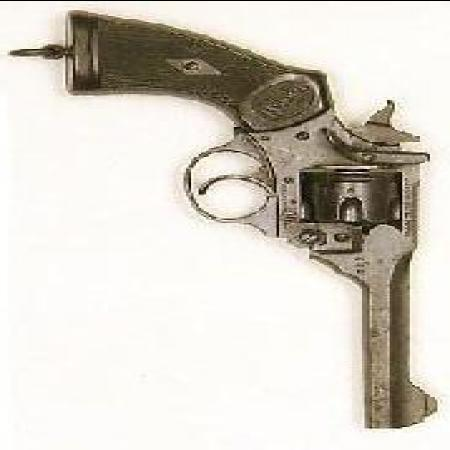Pistol: (66, 3, 442, 431)
